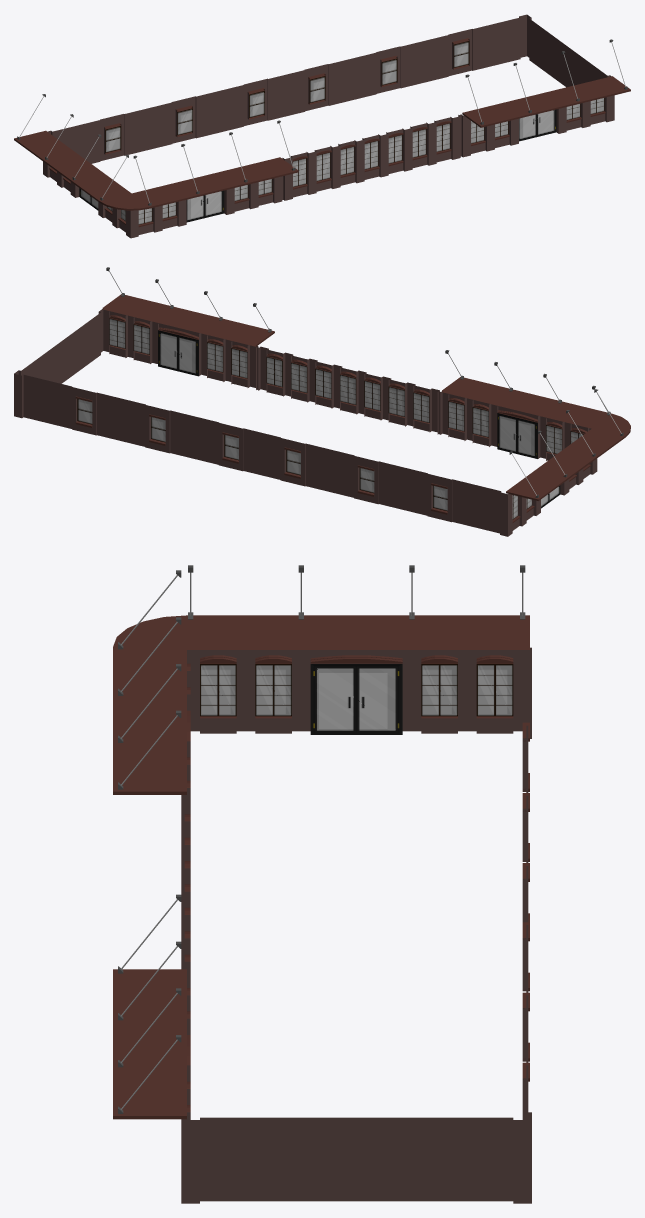
File: BuildingSmall1_1.fbx
The picture shows the model from 3 angles, top to bottom: view 1: azimuth 30°, elevation 25°; view 2: azimuth 150°, elevation 25°; view 3: azimuth 270°, elevation 25°; orthographic projection. The views are drawn at different scales.
Visible parts, largest first — view 1: BuildingSmall1_1; view 2: BuildingSmall1_1; view 3: BuildingSmall1_1.
Boxes of the visible parts, x1,y1,x2,y2 form: BuildingSmall1_1: (14,14,630,238); BuildingSmall1_1: (14,267,630,536); BuildingSmall1_1: (113,565,531,1203).
Bounding box in the file's own units: 6430 × 978 × 2270.
